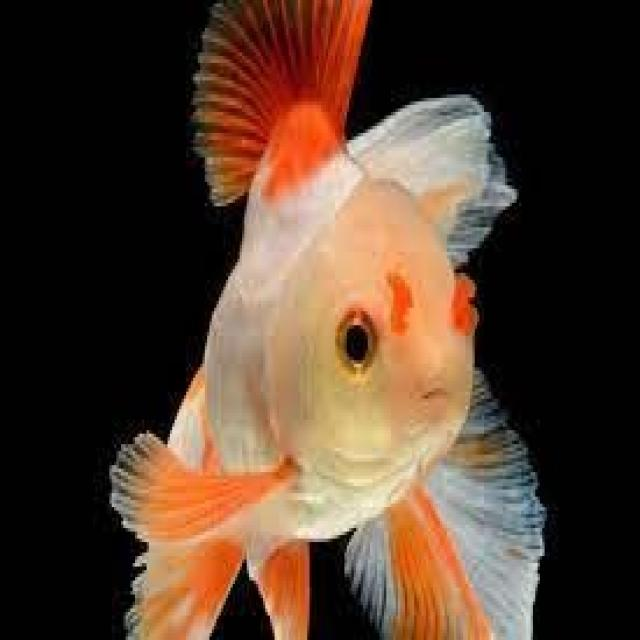Gold-Fish: (96, 0, 553, 640)
